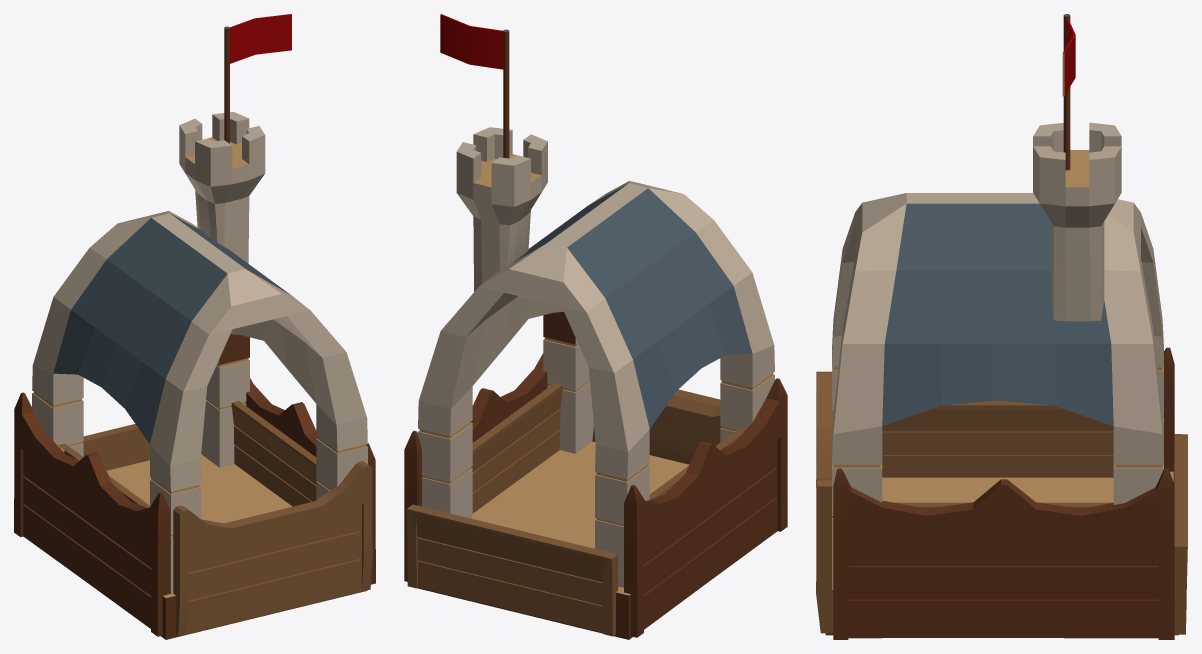
Rendered from Castle_Cab.fbx.
3 views of the same model, side by side, from view 1: azimuth 30°, elevation 25°; view 2: azimuth 150°, elevation 25°; view 3: azimuth 270°, elevation 25° (orthographic). The views are drawn at different scales.
Parts seen in each view (by area): view 1: polySurface24; view 2: polySurface24; view 3: polySurface24.
Boxes of the visible parts, x1,y1,x2,y2 form: polySurface24: (14,14,375,639); polySurface24: (404,14,787,639); polySurface24: (816,14,1187,639).
Bounding box in the file's own units: 102 × 210 × 118.
